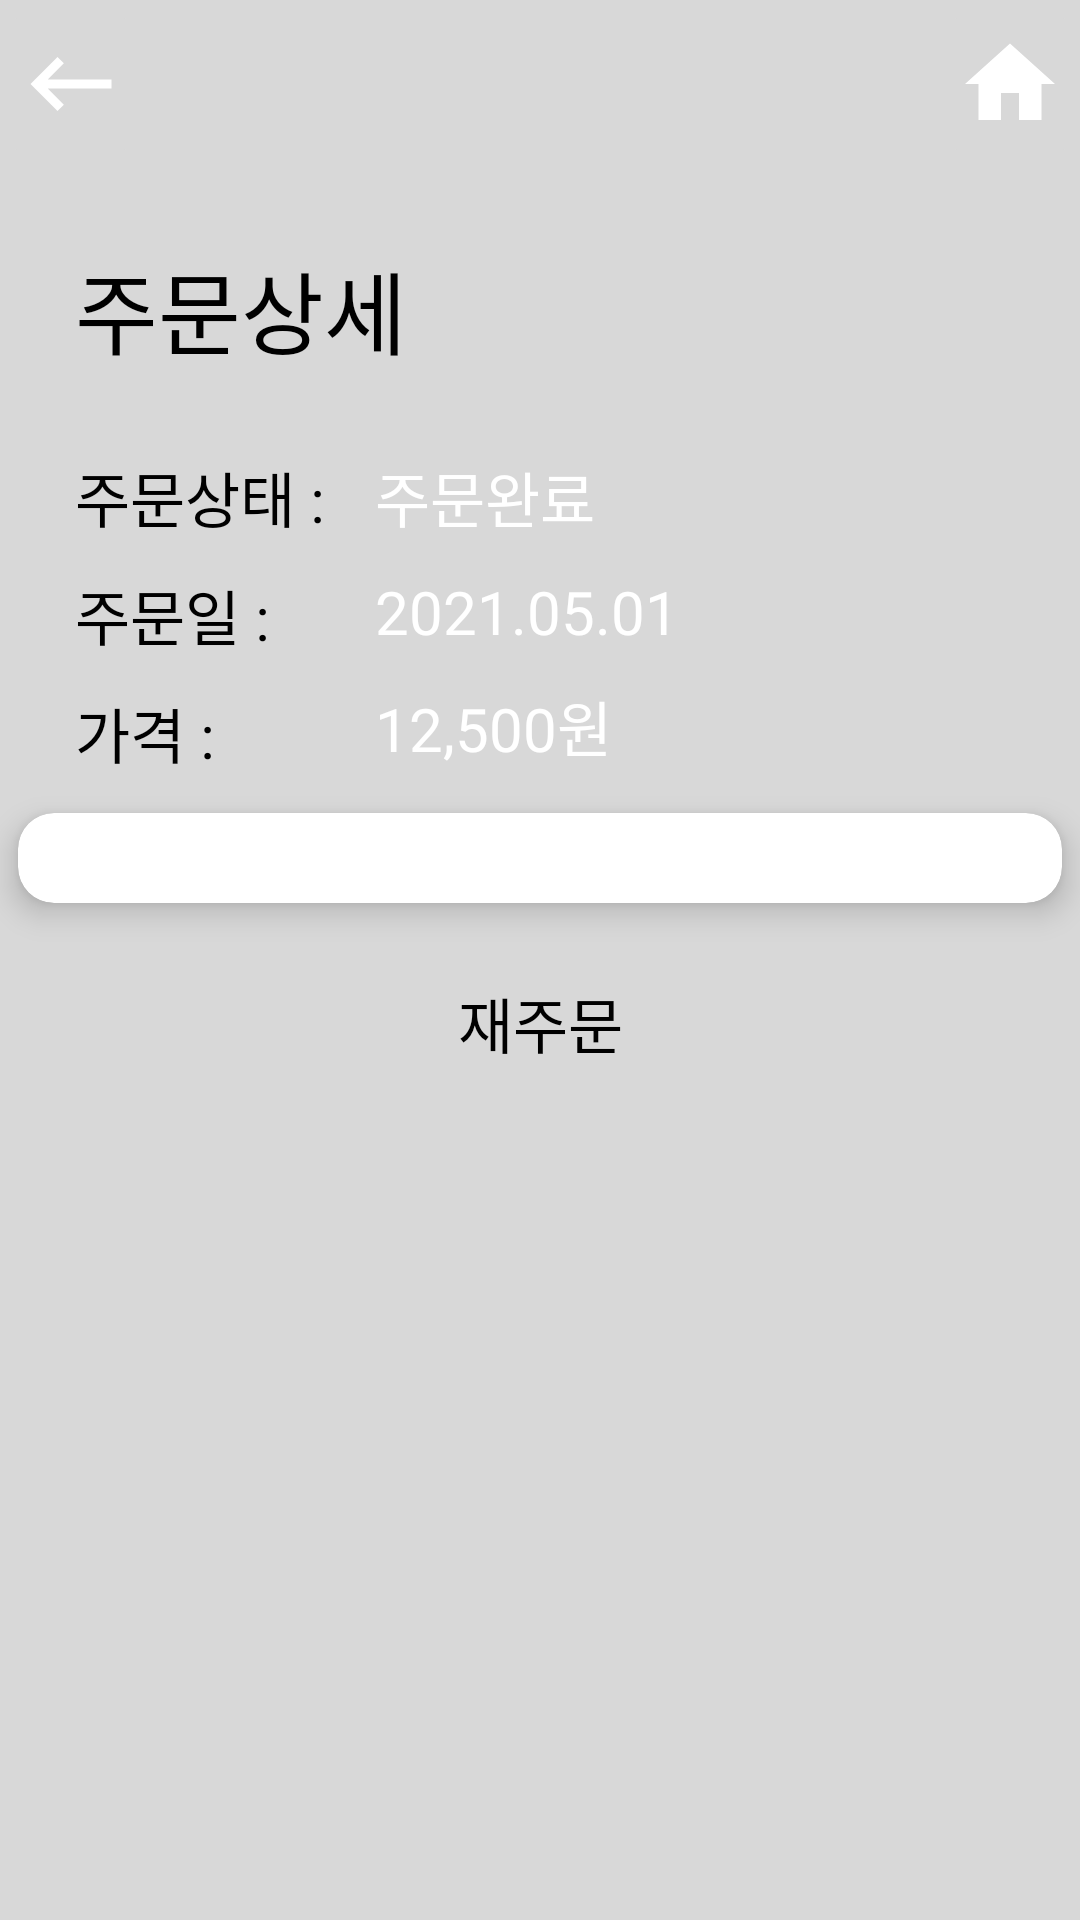

Screen size 1080x1920. Icon name, then its box in pixels as bbox=(x1, y1, x2, y2):
home: bbox=(966, 44, 1054, 120)
